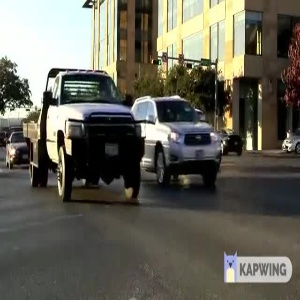suv: (132, 88, 225, 192)
truck: (24, 58, 149, 204)
